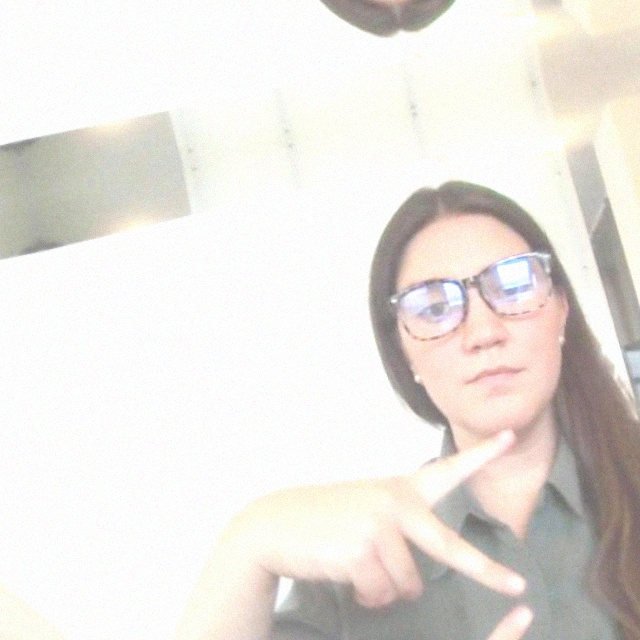Scissors: (0, 526, 19, 640)
